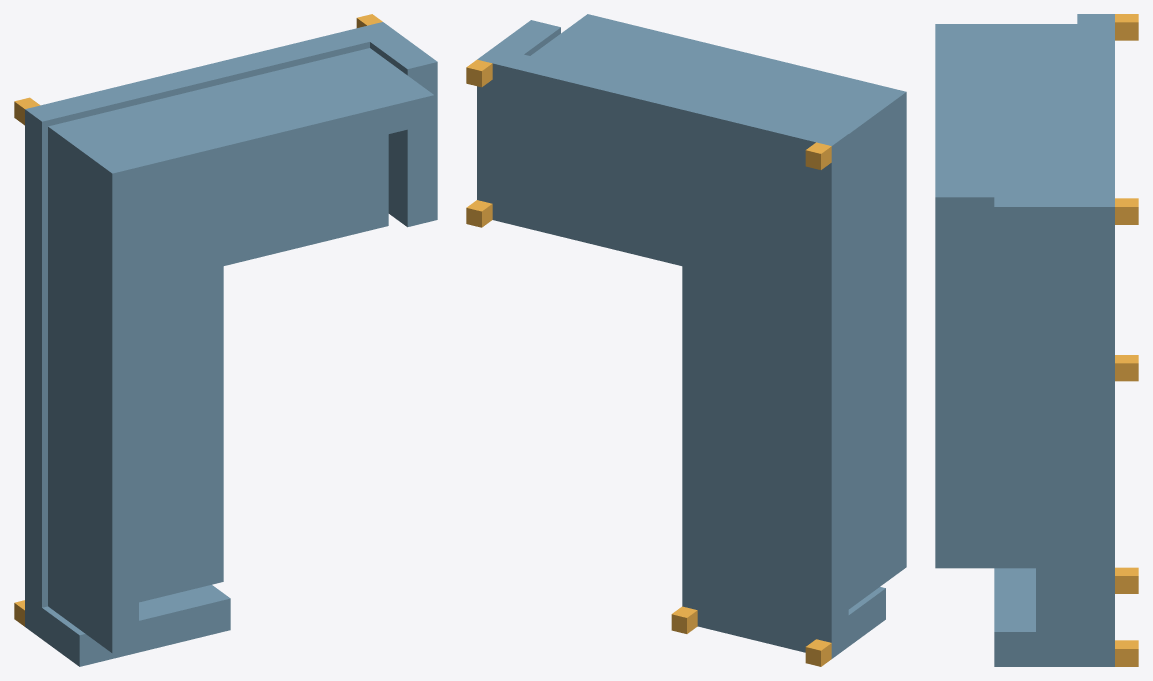
File: couch_2.dae
The picture shows the model from 3 angles, left to right: view 1: azimuth 30°, elevation 25°; view 2: azimuth 150°, elevation 25°; view 3: azimuth 270°, elevation 25°; orthographic projection. The views are drawn at different scales.
Visible parts, largest first — view 1: coords_ME_ID3_MA_material; view 2: coords_ME_ID3_MA_material; view 3: coords_ME_ID3_MA_material, coords_ME_ID37_MA_material_0, coords_ME_ID31_MA_material_0, coords_ME_ID25_MA_material_0, coords_ME_ID19_MA_material_0, coords_ME_ID11_MA_material_0.
Boxes of the visible parts, box(x1,y1,x2,y2) form: coords_ME_ID3_MA_material: box(25, 22, 437, 666); coords_ME_ID3_MA_material: box(477, 14, 906, 658); coords_ME_ID3_MA_material: box(935, 14, 1114, 666); coords_ME_ID37_MA_material_0: box(1115, 198, 1138, 224); coords_ME_ID31_MA_material_0: box(1115, 355, 1138, 381); coords_ME_ID25_MA_material_0: box(1115, 567, 1138, 593); coords_ME_ID19_MA_material_0: box(1115, 640, 1138, 666); coords_ME_ID11_MA_material_0: box(1115, 14, 1138, 40).
Size of the model in its own units: 26.52 by 36.64 by 11.83.
